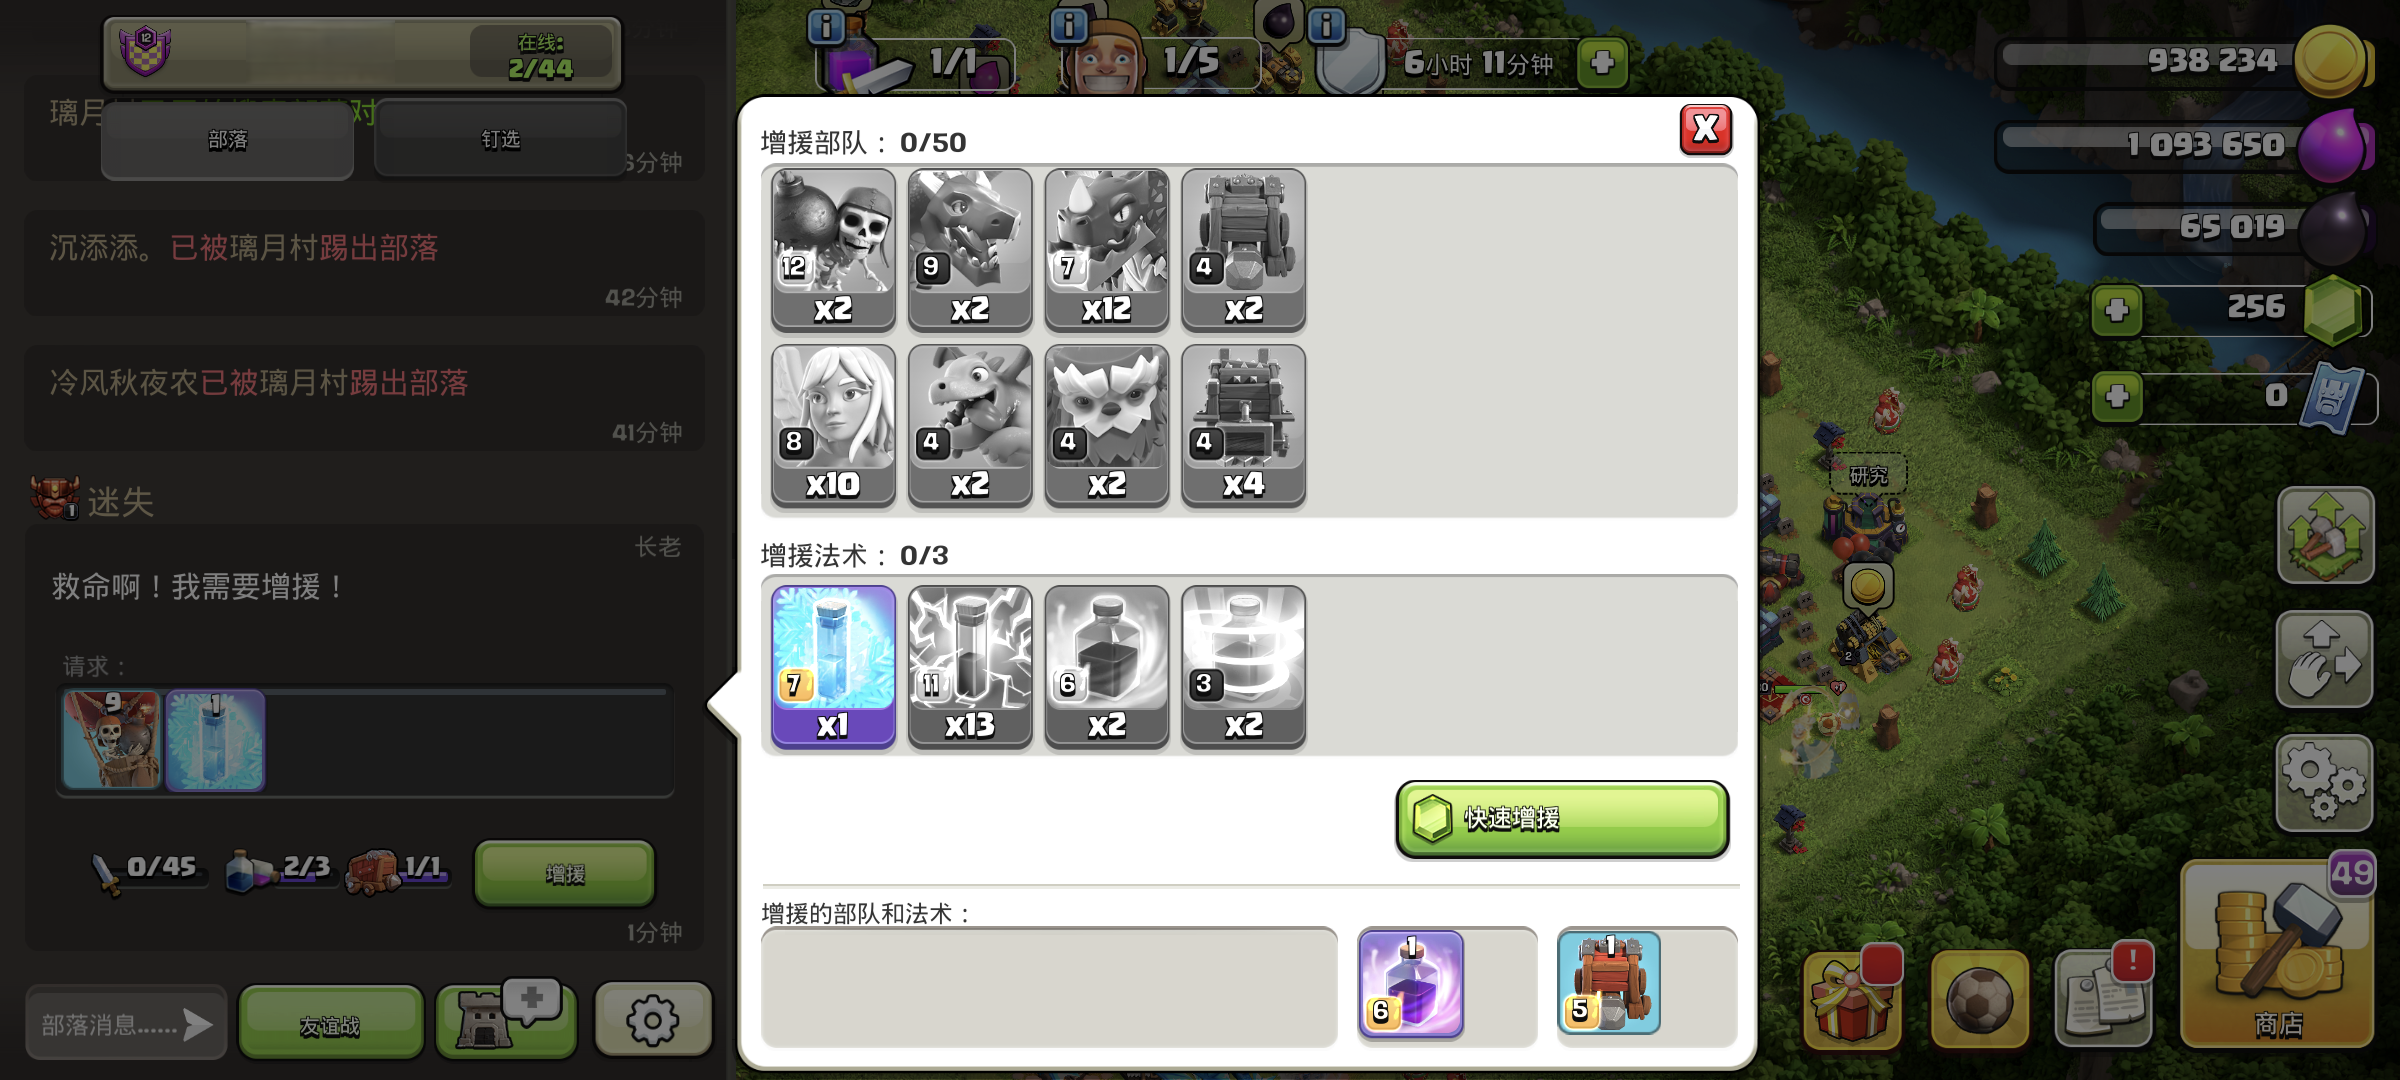bingdong: (771, 581, 902, 713)
close: (1679, 101, 1736, 158)
